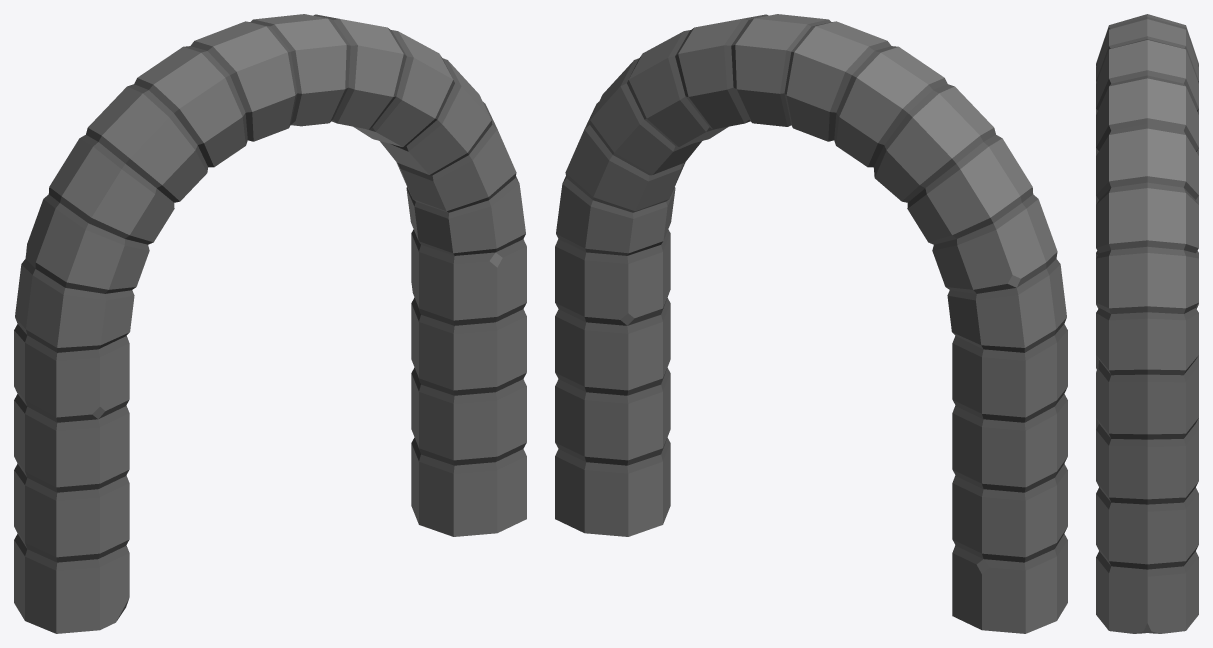
The model's file is Arch_03.fbx.
3 renders of one model, left to right at view 1: azimuth 30°, elevation 25°; view 2: azimuth 150°, elevation 25°; view 3: azimuth 270°, elevation 25°, orthographic. The views are drawn at different scales.
Parts seen in each view (by area): view 1: Arch_03; view 2: Arch_03; view 3: Arch_03.
Boxes of the visible parts, x1=… form: Arch_03: x1=14, y1=14, x2=526, y2=633; Arch_03: x1=555, y1=14, x2=1067, y2=633; Arch_03: x1=1096, y1=14, x2=1198, y2=633.
Size of the model in its own units: 231 by 241 by 45.95.
